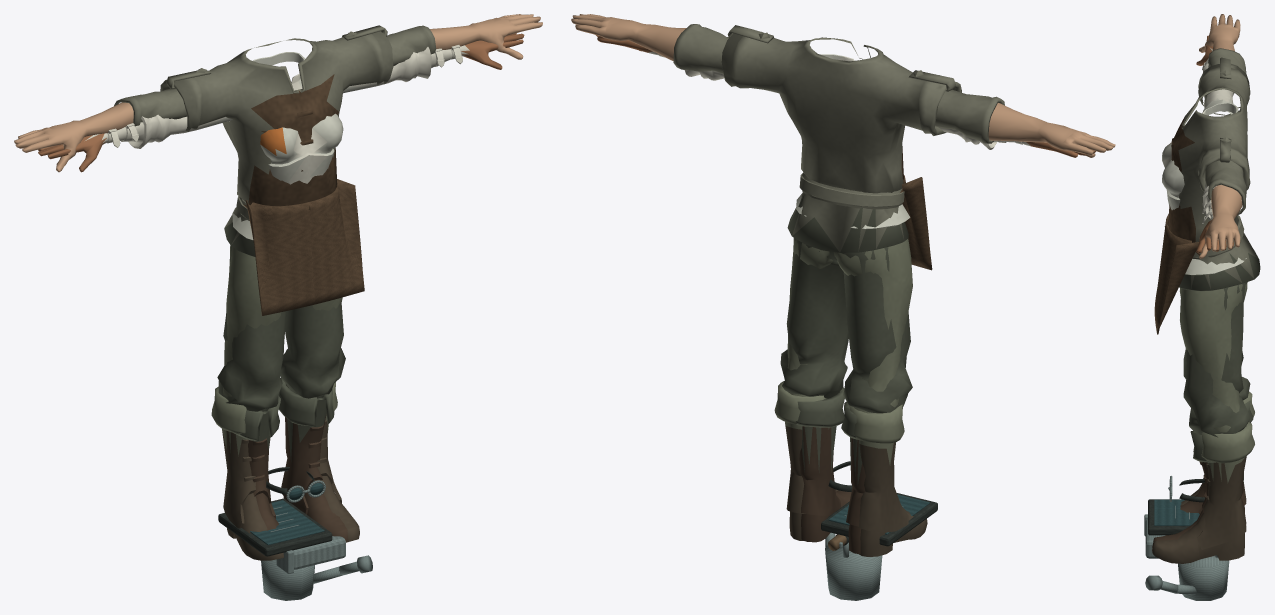
Rendered from crew-work-195.glb.
3 renders of one model, left to right at view 1: azimuth 30°, elevation 25°; view 2: azimuth 150°, elevation 25°; view 3: azimuth 270°, elevation 25°, orthographic. The views are drawn at different scales.
Parts seen in each view (by area): view 1: dress-ivo, dress-lia, apron-hem__195 worn smith leather, tool-elisa__195 brushed steel, tool-nara__195 instrument enamel, tool-nara__195 textured rubber, tool-ivo__195 brushed steel; view 2: dress-ivo, dress-lia, tool-elisa__195 brushed steel, apron-hem__195 worn smith leather, tool-nara__195 textured rubber; view 3: dress-ivo, dress-lia, tool-elisa__195 brushed steel, apron-hem__195 worn smith leather, tool-nara__195 instrument enamel, tool-nara__195 textured rubber, tool-ivo__195 brushed steel, head-ivo__195 textured rubber.
Boxes of the visible parts, x1=… form: dress-ivo: x1=14, y1=14, x2=542, y2=541; dress-lia: x1=38, y1=33, x2=524, y2=560; apron-hem__195 worn smith leather: x1=245, y1=179, x2=364, y2=315; tool-elisa__195 brushed steel: x1=261, y1=555, x2=372, y2=600; tool-nara__195 instrument enamel: x1=250, y1=500, x2=324, y2=545; tool-nara__195 textured rubber: x1=218, y1=498, x2=332, y2=556; tool-ivo__195 brushed steel: x1=276, y1=536, x2=345, y2=573; dress-ivo: x1=571, y1=14, x2=1115, y2=554; dress-lia: x1=596, y1=35, x2=1095, y2=556; tool-elisa__195 brushed steel: x1=825, y1=532, x2=882, y2=600; apron-hem__195 worn smith leather: x1=901, y1=174, x2=932, y2=270; tool-nara__195 textured rubber: x1=821, y1=493, x2=937, y2=546; dress-ivo: x1=1152, y1=14, x2=1260, y2=547; dress-lia: x1=1152, y1=35, x2=1254, y2=563; tool-elisa__195 brushed steel: x1=1145, y1=555, x2=1229, y2=600; apron-hem__195 worn smith leather: x1=1154, y1=213, x2=1198, y2=334; tool-nara__195 instrument enamel: x1=1154, y1=499, x2=1199, y2=525; tool-nara__195 textured rubber: x1=1148, y1=499, x2=1189, y2=535; tool-ivo__195 brushed steel: x1=1144, y1=514, x2=1165, y2=558; head-ivo__195 textured rubber: x1=1179, y1=479, x2=1204, y2=502.
Size of the model in its own units: 1.8 by 1.75 by 0.3755.
32 materials, 27 textured.
